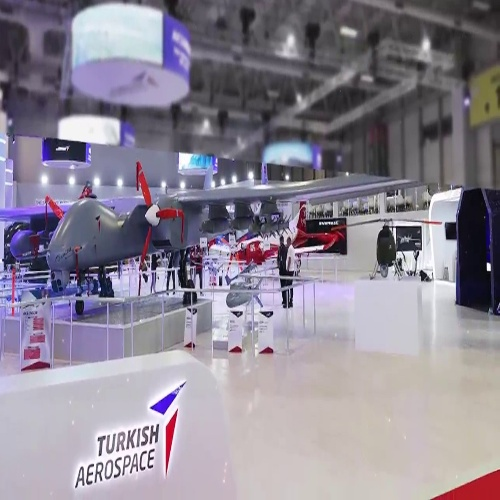uav: (12, 176, 415, 306)
